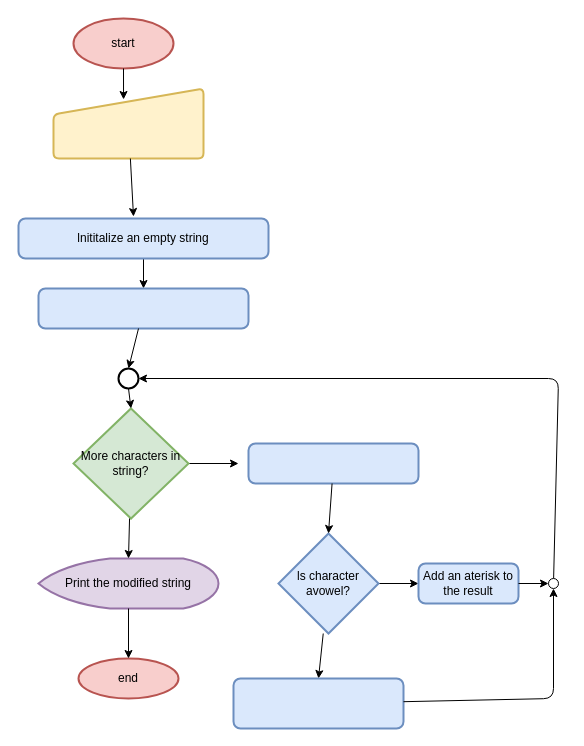
The diagram is 584 pixels wide and 746 high, and some of its shapes have lost their labels. The box of each missing label's shape, as (x1, y1, x2, y2) in pixels:
Add the uppercase character to the result: (232, 677, 404, 729)
Covert character o upppercase: (247, 442, 419, 484)
Definr vowels as "aeiouAEIOU": (37, 287, 249, 329)
read input string from the user: (52, 87, 204, 159)
